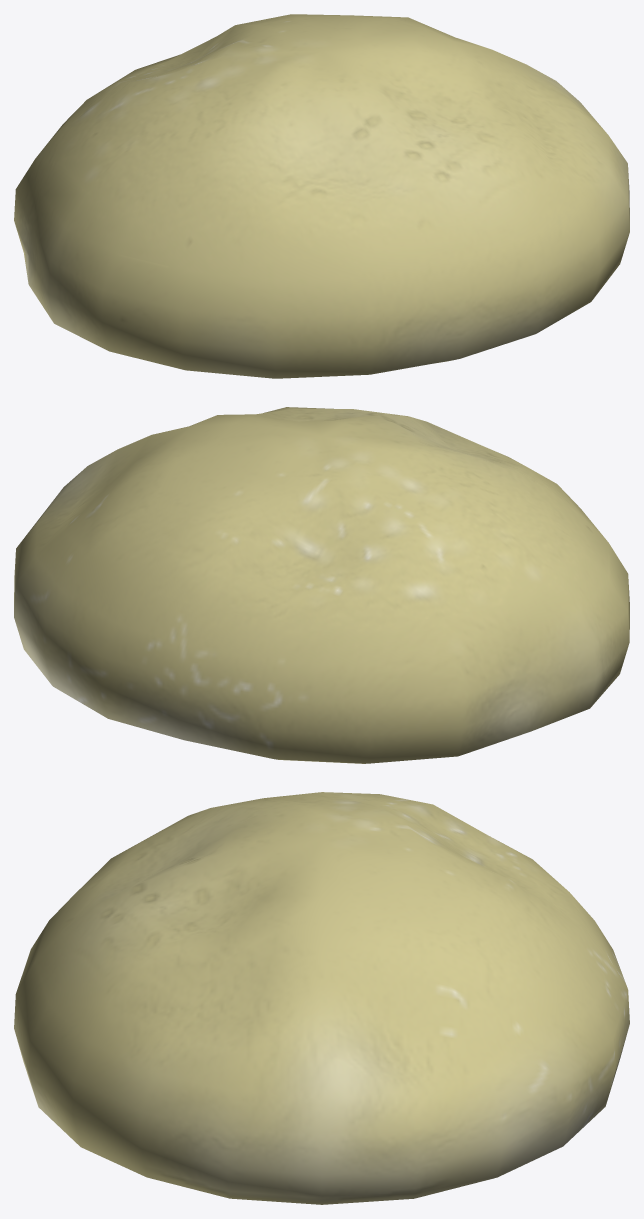
Rendered from pizza_dough.fbx.
The picture shows the model from 3 angles, top to bottom: view 1: azimuth 30°, elevation 25°; view 2: azimuth 150°, elevation 25°; view 3: azimuth 270°, elevation 25°; orthographic projection. The views are drawn at different scales.
Visible parts, largest first — view 1: node_3ce8d1a8_b1e2_44a2_af77_1736cb46f74b_mesh0; view 2: node_3ce8d1a8_b1e2_44a2_af77_1736cb46f74b_mesh0; view 3: node_3ce8d1a8_b1e2_44a2_af77_1736cb46f74b_mesh0.
Part boxes in pixels (x1,y1,x2,y2): node_3ce8d1a8_b1e2_44a2_af77_1736cb46f74b_mesh0: (14, 14, 629, 378); node_3ce8d1a8_b1e2_44a2_af77_1736cb46f74b_mesh0: (14, 407, 629, 763); node_3ce8d1a8_b1e2_44a2_af77_1736cb46f74b_mesh0: (14, 792, 629, 1204).
Bounding box in the file's own units: 787 × 299 × 703.
